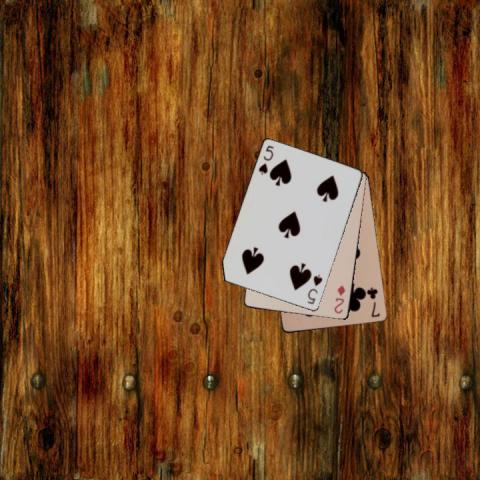2d: (331, 283, 347, 315)
5s: (304, 271, 324, 306), (256, 142, 275, 176)
7c: (365, 284, 382, 318)
